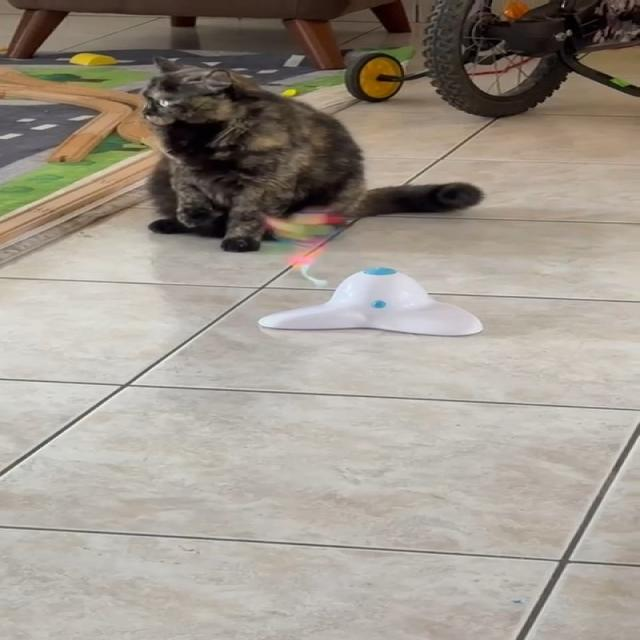authorized: (139, 56, 484, 252)
